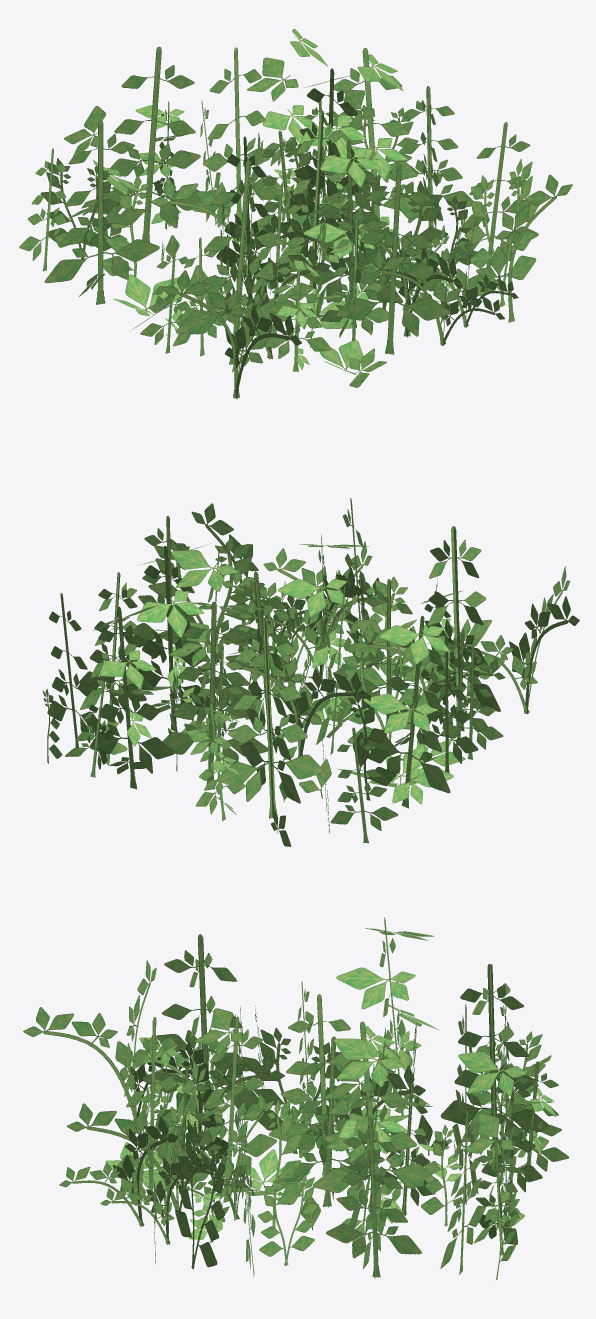
File: LeafSetF_19.fbx
The picture shows the model from 3 angles, top to bottom: view 1: azimuth 30°, elevation 25°; view 2: azimuth 150°, elevation 25°; view 3: azimuth 270°, elevation 25°; orthographic projection. The views are drawn at different scales.
Parts seen in each view (by area): view 1: LeafSetF_19; view 2: LeafSetF_19; view 3: LeafSetF_19.
Boxes of the visible parts, x1,y1,x2,y2 form: LeafSetF_19: (19, 28, 572, 399); LeafSetF_19: (42, 498, 579, 846); LeafSetF_19: (23, 917, 569, 1279).
Size of the model in its own units: 2.54 by 1.3 by 2.8.
